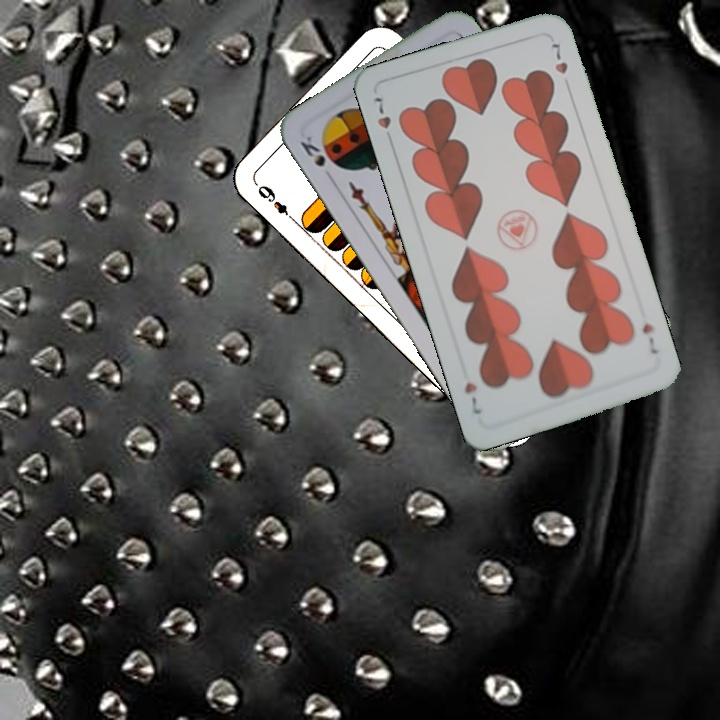E9: (252, 180, 299, 225)
H7: (369, 91, 396, 148), (638, 319, 661, 357)
SK: (296, 131, 328, 170)
